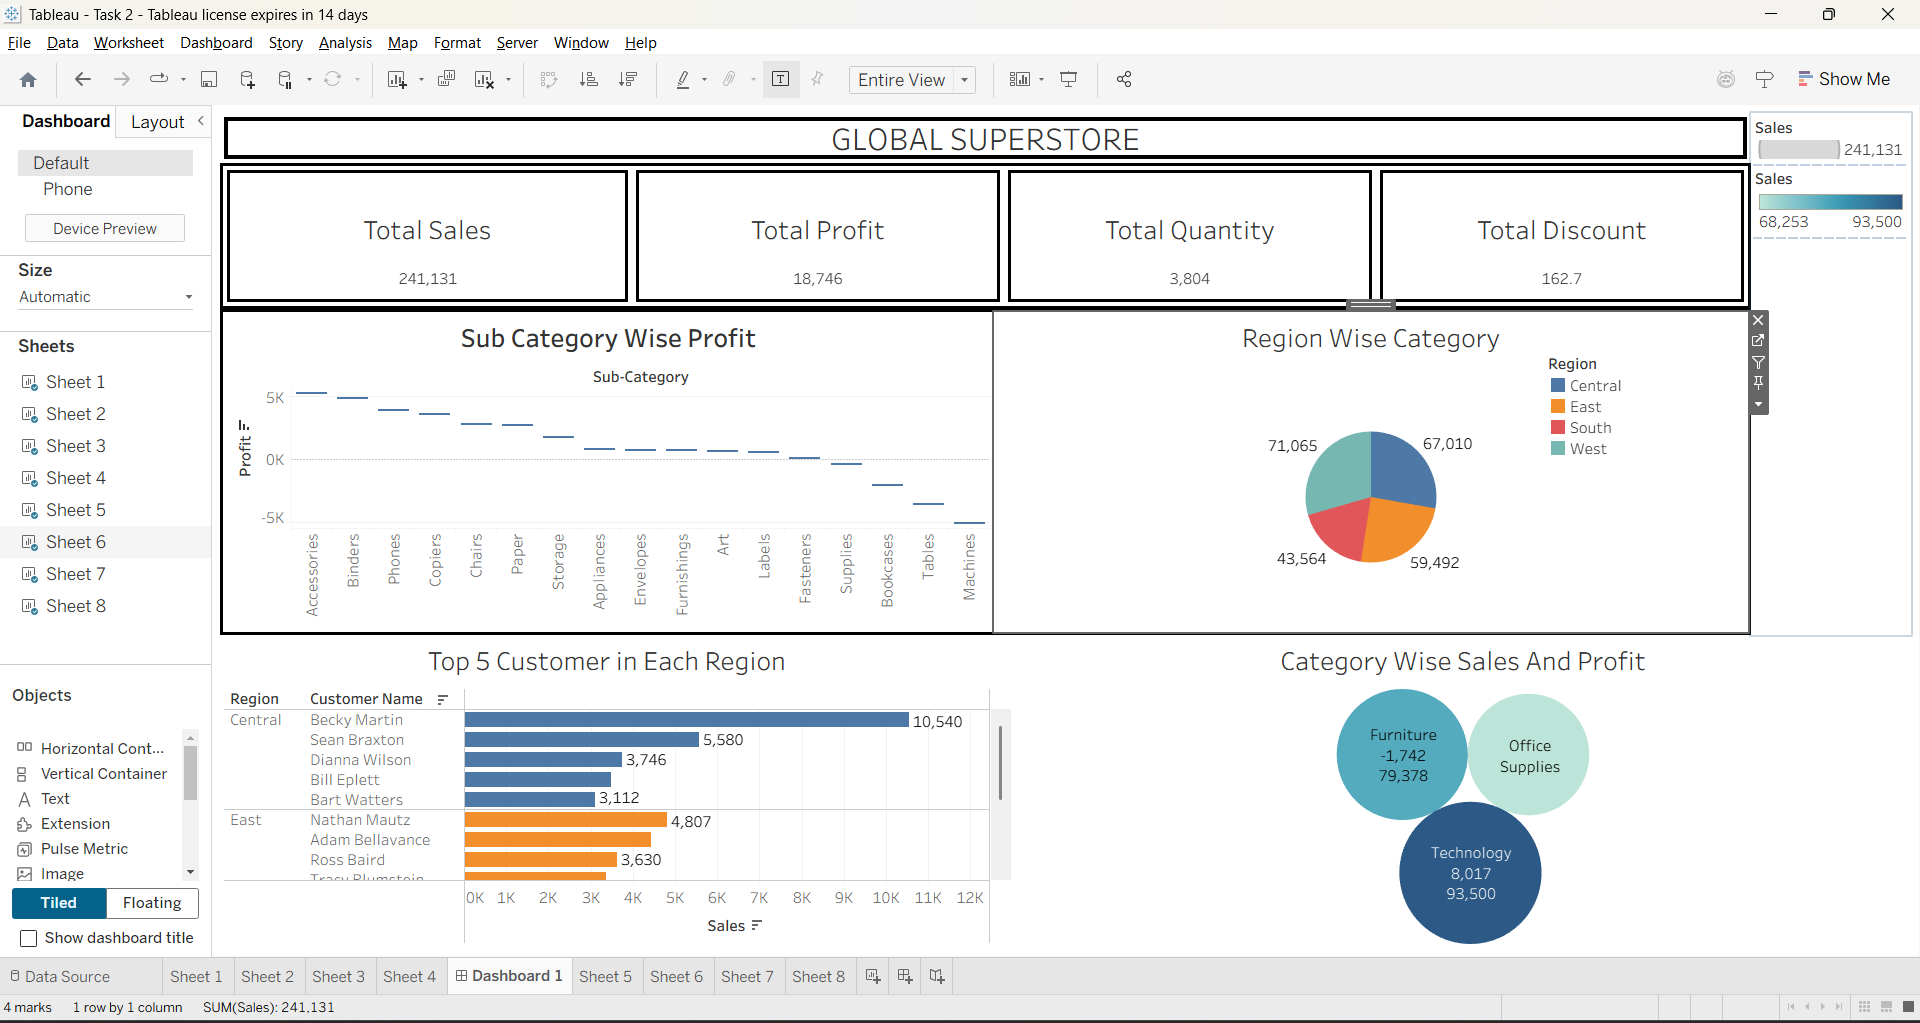

What the dashboard file says about the page in this screenshot:
{"tool":"tableau","page":{"name":"Dashboard 1","canvas":[1000,1000],"units":"permille","ordinal":0},"visuals":[{"type":"title","box":[4.7,9.4,896.9,62.3]},{"type":"legend","title":"Sheet 6","param":"[federated.1gq5bti1s741wv1g2h9b61fa093n].[sum:Sales:qk]","box":[901.6,9.4,93.7,59.9]},{"type":"legend","title":"Sheet 8","param":"[federated.1gq5bti1s741wv1g2h9b61fa093n].[sum:Sales:qk]","box":[901.6,69.3,93.7,85.8]},{"type":"worksheet","title":"Sheet 2","mark":"Automatic","box":[6.5,75.2,239.6,147.8]},{"type":"worksheet","title":"Sheet 1","mark":"Automatic","box":[246.1,75.2,217.9,147.8]},{"type":"worksheet","title":"Sheet 3","mark":"Automatic","box":[464,75.2,217.9,147.8]},{"type":"worksheet","title":"Sheet 4","mark":"Automatic","box":[681.9,75.2,217.9,147.8]},{"type":"worksheet","title":"Sheet 5","mark":"GanttBar","rows":["Profit"],"cols":["Sub-Category"],"box":[6.5,230.1,451.7,338.7]},{"type":"worksheet","title":"Sheet 6","mark":"Pie","box":[458.1,230.1,441.7,338.7]},{"type":"legend","title":"Sheet 6","param":"[federated.1gq5bti1s741wv1g2h9b61fa093n].[none:Region:nk]","box":[782.7,291.4,90.8,158.6]},{"type":"worksheet","title":"Sheet 7","mark":"Automatic","rows":["Region","Customer Name"],"cols":["Sales"],"box":[4.7,572.3,465.7,418.3]},{"type":"worksheet","title":"Sheet 8","mark":"Circle","box":[470.4,572.3,524.9,418.3]}]}

Visuals, with their boxes on the dashboard's canvas, which has no fixed pixel size, in thousandths of its width and height (x1, y1, x2, y2). These are canvas units, not pixel positions in the 1920x1023 screenshot, which may show the page scaled, cropped or inside an application window:
title: {"left": 5, "top": 9, "right": 902, "bottom": 72}
"Sheet 6" legend: {"left": 902, "top": 9, "right": 995, "bottom": 69}
"Sheet 8" legend: {"left": 902, "top": 69, "right": 995, "bottom": 155}
"Sheet 2" worksheet: {"left": 6, "top": 75, "right": 246, "bottom": 223}
"Sheet 1" worksheet: {"left": 246, "top": 75, "right": 464, "bottom": 223}
"Sheet 3" worksheet: {"left": 464, "top": 75, "right": 682, "bottom": 223}
"Sheet 4" worksheet: {"left": 682, "top": 75, "right": 900, "bottom": 223}
"Sheet 5" worksheet (GanttBar marks): {"left": 6, "top": 230, "right": 458, "bottom": 569}
"Sheet 6" worksheet (Pie marks): {"left": 458, "top": 230, "right": 900, "bottom": 569}
"Sheet 6" legend: {"left": 783, "top": 291, "right": 874, "bottom": 450}
"Sheet 7" worksheet: {"left": 5, "top": 572, "right": 470, "bottom": 991}
"Sheet 8" worksheet (Circle marks): {"left": 470, "top": 572, "right": 995, "bottom": 991}
